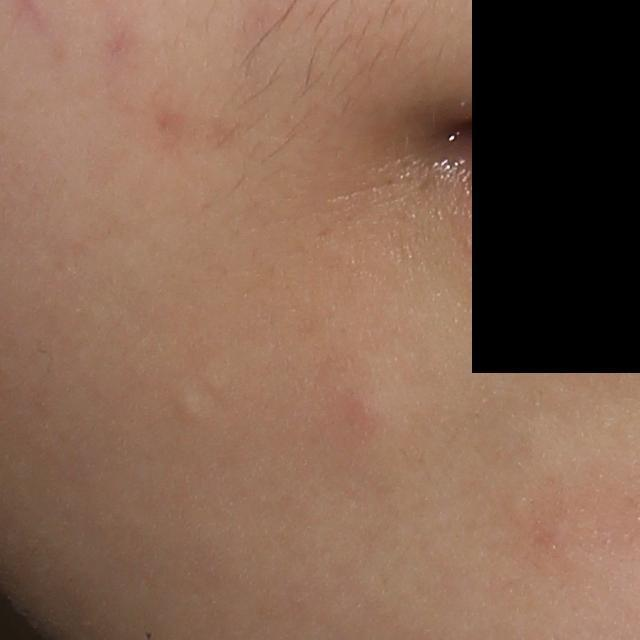comedo: (341, 388, 391, 438), (178, 391, 202, 419), (207, 368, 227, 392)
